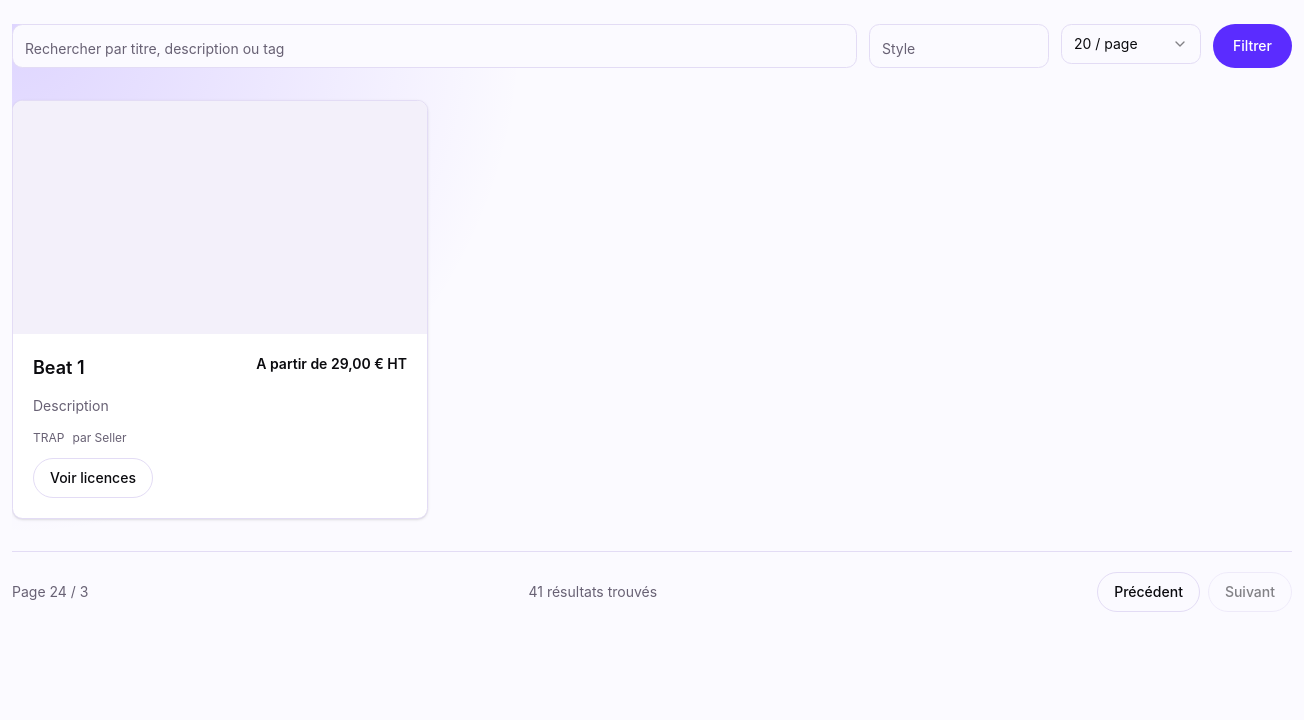
it: BeatsCatalogClient › uses the resolved page returned by the API when a requested page is too high
The image size is (1304, 720).
Click the button "Précédent" at (1149, 592), box [1097, 572, 1200, 612]
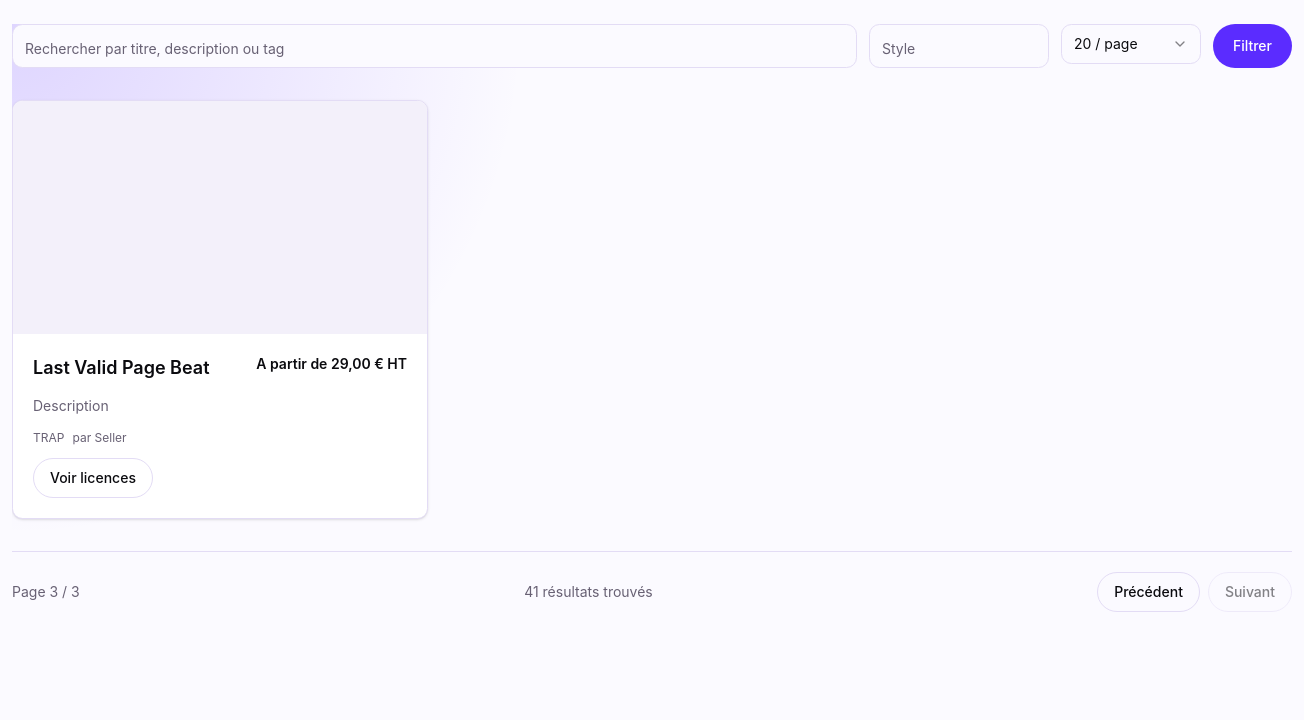
Expected: the text "41 résultats trouvés" is shown, [524, 582, 653, 602]
Now the heading "Last Valid Page Beat" is shown, box [33, 354, 210, 382]
Now the text "Page 3 / 3" is shown, box [12, 582, 80, 602]
